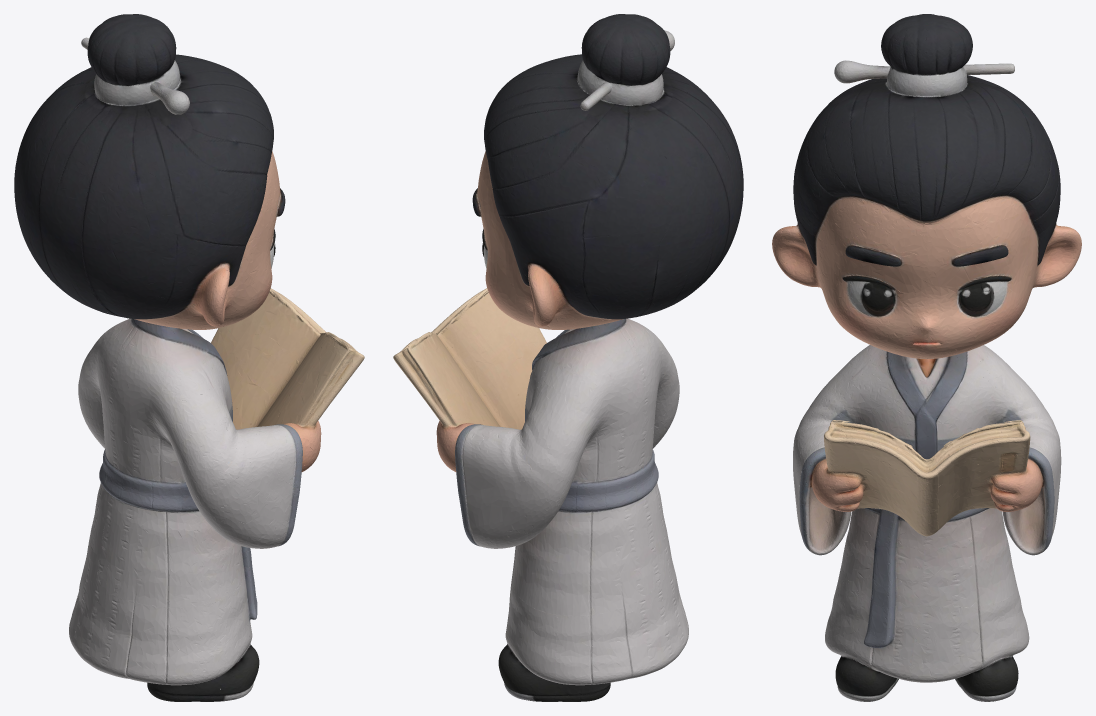
3 views of the same model, side by side, from view 1: azimuth 30°, elevation 25°; view 2: azimuth 150°, elevation 25°; view 3: azimuth 270°, elevation 25° (orthographic). The views are drawn at different scales.
Parts seen in each view (by area): view 1: tripo_node_ace4f6b7-f1e9-4c71-a613-9e2dbc9e5949; view 2: tripo_node_ace4f6b7-f1e9-4c71-a613-9e2dbc9e5949; view 3: tripo_node_ace4f6b7-f1e9-4c71-a613-9e2dbc9e5949.
Boxes of the visible parts, x1,y1,x2,y2 form: tripo_node_ace4f6b7-f1e9-4c71-a613-9e2dbc9e5949: (14, 14, 364, 701); tripo_node_ace4f6b7-f1e9-4c71-a613-9e2dbc9e5949: (393, 14, 743, 701); tripo_node_ace4f6b7-f1e9-4c71-a613-9e2dbc9e5949: (772, 14, 1081, 701).
Bounding box in the file's own units: 0.4816 × 1 × 0.4358.
1 material, 1 textured.
